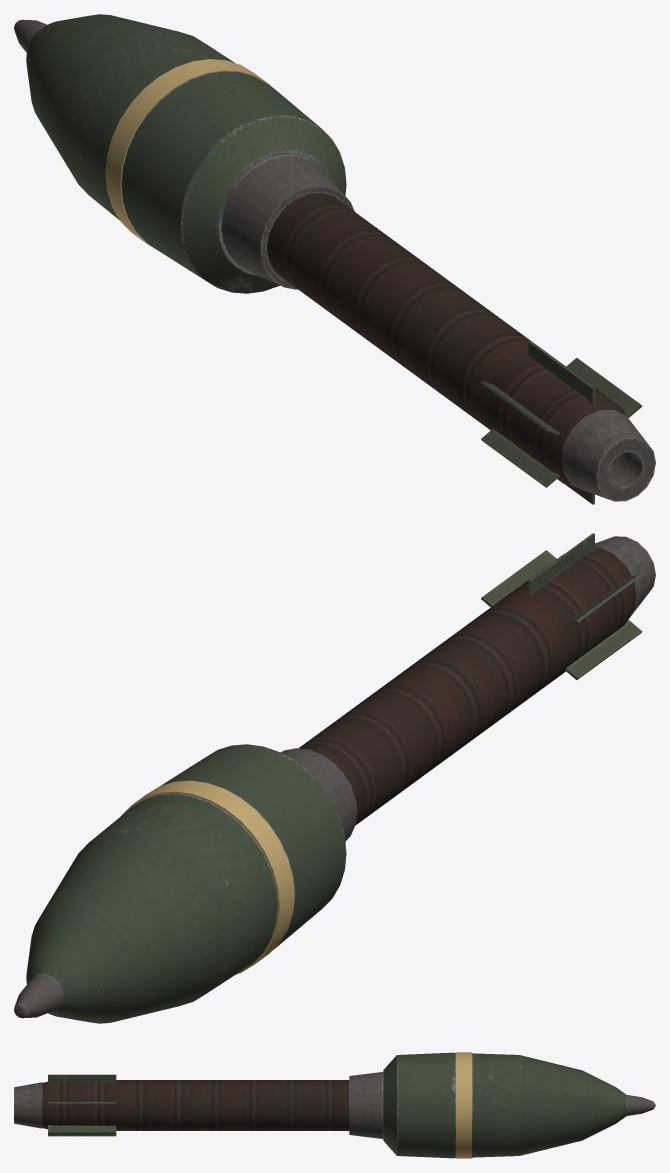
The model's file is rocket_projectile.glb.
3 views of the same model, one above another, from view 1: azimuth 30°, elevation 25°; view 2: azimuth 150°, elevation 25°; view 3: azimuth 270°, elevation 25° (orthographic). The views are drawn at different scales.
Parts seen in each view (by area): view 1: Rocket; view 2: Rocket; view 3: Rocket.
Boxes of the visible parts, x1=… form: Rocket: x1=14, y1=14, x2=655, y2=504; Rocket: x1=14, y1=533, x2=655, y2=1023; Rocket: x1=14, y1=1052, x2=655, y2=1158.
Size of the model in its own units: 0.0936 by 0.0936 by 0.565.
1 material, 1 textured.
